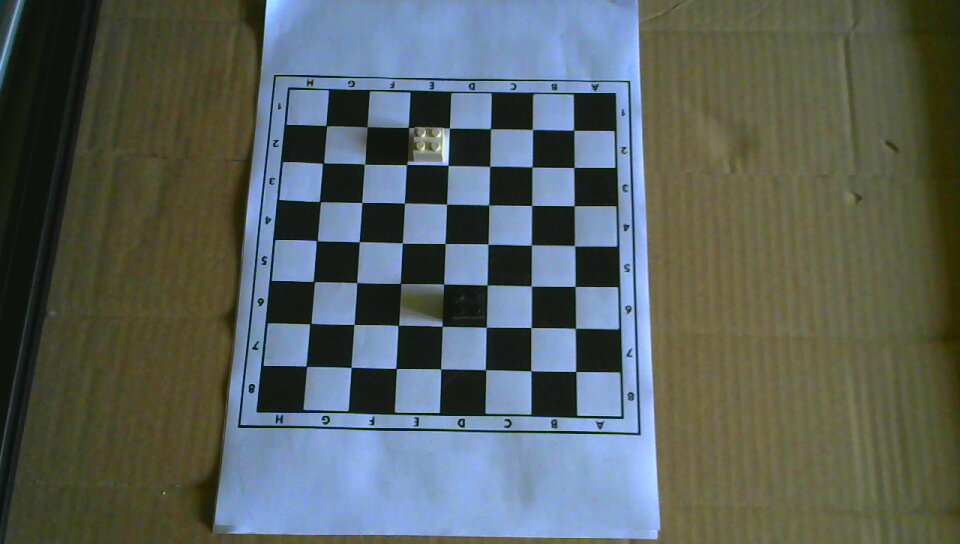bp: (448, 287, 485, 325)
wp: (411, 126, 445, 163)
